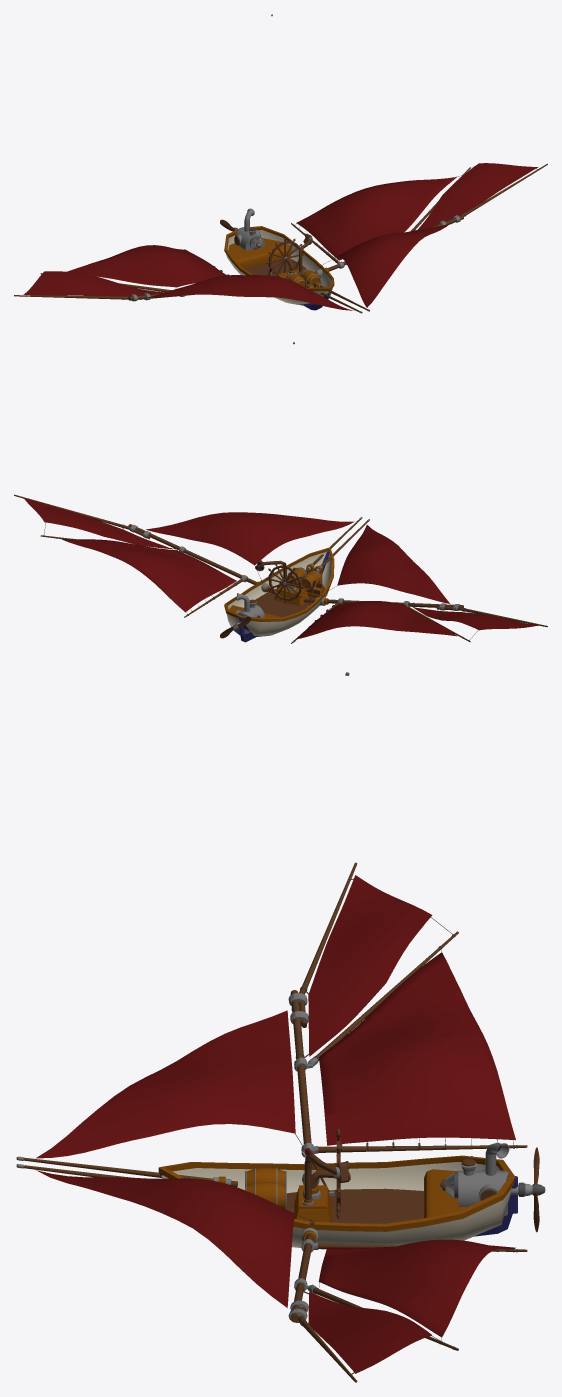
3 views of the same model, one above another, from view 1: azimuth 30°, elevation 25°; view 2: azimuth 150°, elevation 25°; view 3: azimuth 270°, elevation 25° (orthographic). The views are drawn at different scales.
Parts seen in each view (by area): view 1: pCube34, polySurface120, polySurface122, polySurface129, polySurface115; view 2: pCube34, polySurface122, polySurface129, polySurface115; view 3: pCube34, polySurface122, polySurface129, polySurface115, polySurface120, pCylinder82.
Boxes of the visible parts, box(x1,y1,x2,y2) form: pCube34: box(14, 163, 547, 313); polySurface120: box(228, 238, 292, 268); polySurface122: box(226, 230, 332, 305); polySurface129: box(224, 226, 334, 291); polySurface115: box(245, 258, 307, 276); pCube34: box(14, 494, 547, 643); polySurface122: box(227, 551, 331, 637); polySurface129: box(224, 547, 334, 621); polySurface115: box(255, 583, 324, 617); pCube34: box(16, 862, 527, 1382); polySurface122: box(161, 1162, 511, 1247); polySurface129: box(158, 1155, 515, 1231); polySurface115: box(286, 1188, 423, 1223); polySurface120: box(424, 1169, 467, 1218); pCylinder82: box(458, 1170, 508, 1215).
Size of the model in its own units: 32.37 by 16.22 by 13.9.
